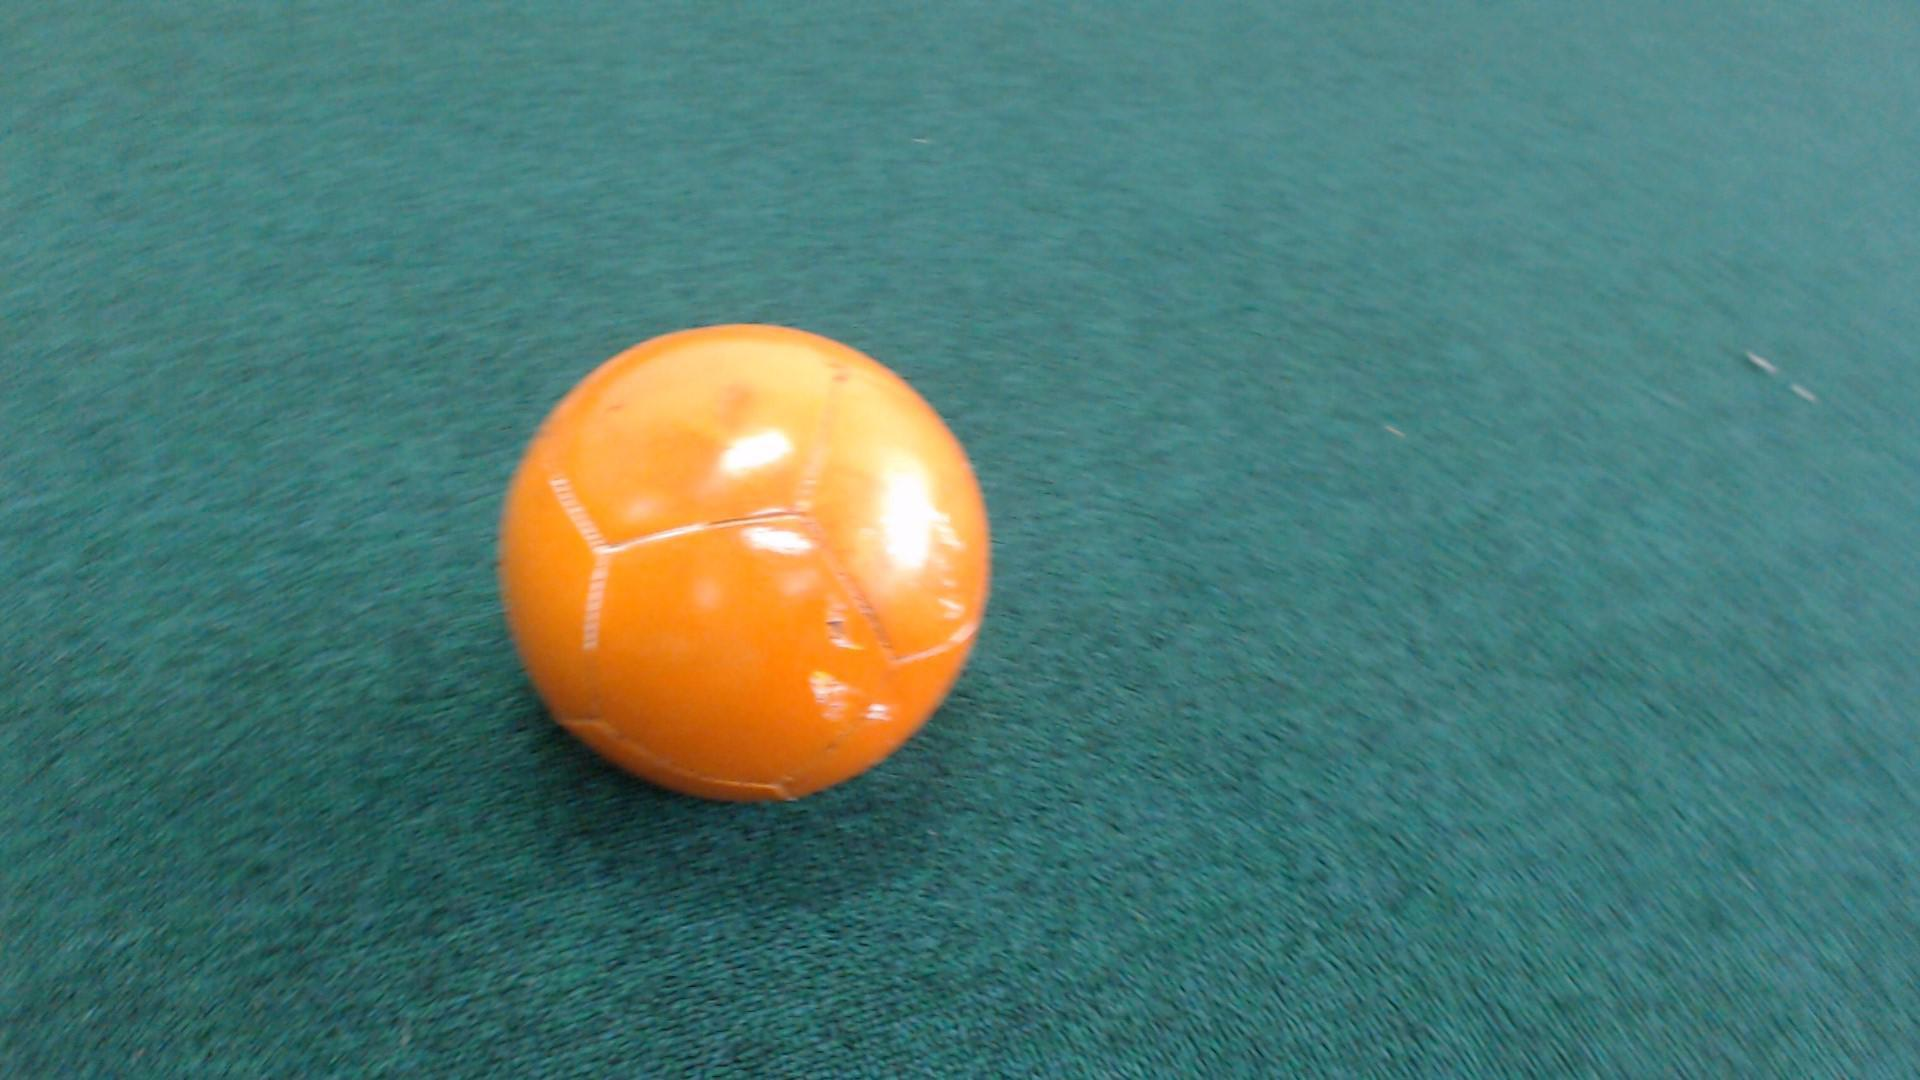bola: (460, 289, 1038, 848)
